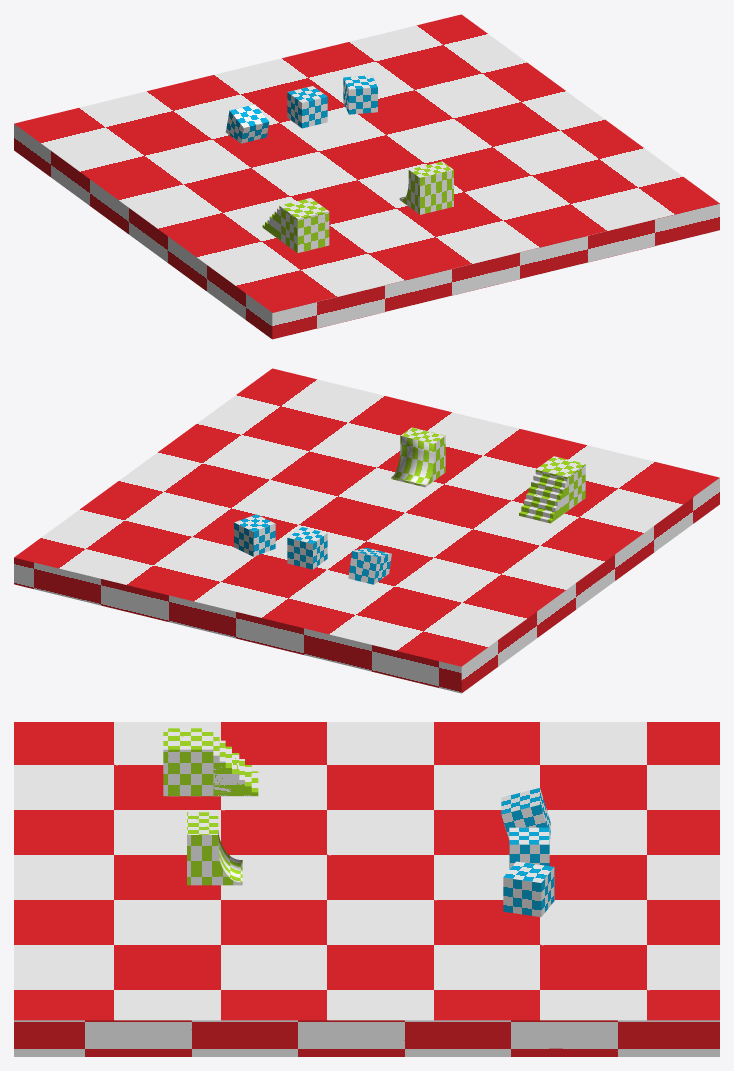
File: test_level.glb
The picture shows the model from 3 angles, top to bottom: view 1: azimuth 30°, elevation 25°; view 2: azimuth 150°, elevation 25°; view 3: azimuth 270°, elevation 25°; orthographic projection. The views are drawn at different scales.
Parts seen in each view (by area): view 1: Cube, Cube.001, Cube.005, Cube.002, Cube.004, Cube.003; view 2: Cube, Cube.001, Cube.005, Cube.002, Cube.003, Cube.004; view 3: Cube, Cube.001, Cube.005, Cube.003, Cube.004, Cube.002.
Boxes of the visible parts, x1,y1,x2,y2 form: Cube: (14, 14, 719, 339); Cube.001: (262, 198, 329, 253); Cube.005: (399, 161, 453, 214); Cube.002: (287, 86, 327, 128); Cube.004: (225, 104, 269, 143); Cube.003: (343, 75, 377, 114); Cube: (14, 368, 719, 693); Cube.001: (519, 456, 585, 523); Cube.005: (391, 427, 445, 487); Cube.002: (287, 527, 327, 569); Cube.003: (234, 514, 275, 556); Cube.004: (348, 547, 391, 584); Cube: (14, 722, 719, 1056); Cube.001: (163, 728, 258, 796); Cube.005: (187, 812, 242, 885); Cube.003: (503, 861, 554, 916); Cube.004: (501, 788, 550, 838); Cube.002: (509, 827, 549, 869).
Bounding box in the file's own units: 34.95 × 4.75 × 34.95.
Materials: 3 (3 with a texture image).
